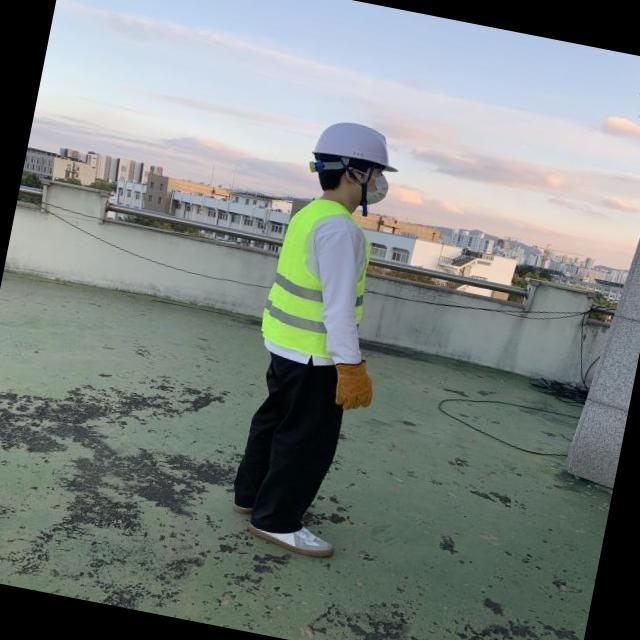hard_hat: (311, 116, 407, 174)
safety_vest: (257, 192, 383, 364)
vehicle: (186, 94, 442, 586)
work_boots: (244, 515, 338, 561)
